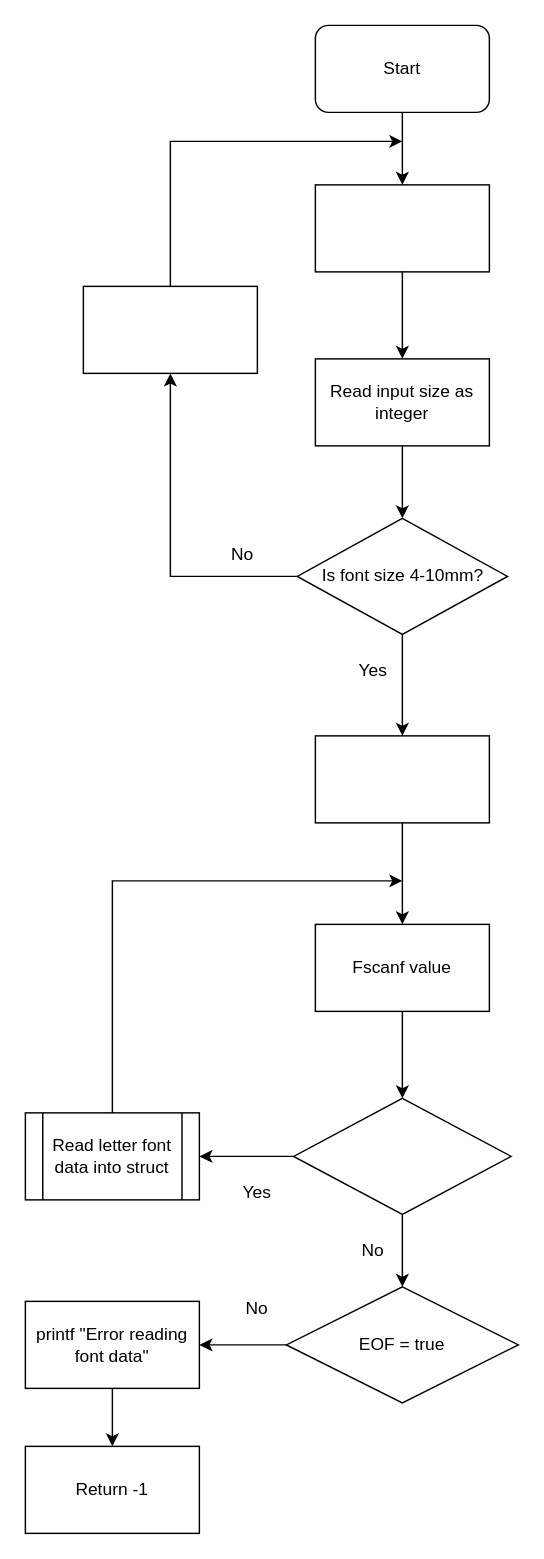
Some shapes in this 544 by 1559 pixel diagram are drawn without their labels. The shapes that lost their labels are listed below. From the top down, each one's centre as x and y in pixels, then its label:
point (401, 227): Prompt user to enter font size between 4-10mm
point (169, 329): printf "font size outside range"
point (401, 778): Fopen "FontData.txt"
point (401, 1155): Is value 999?
